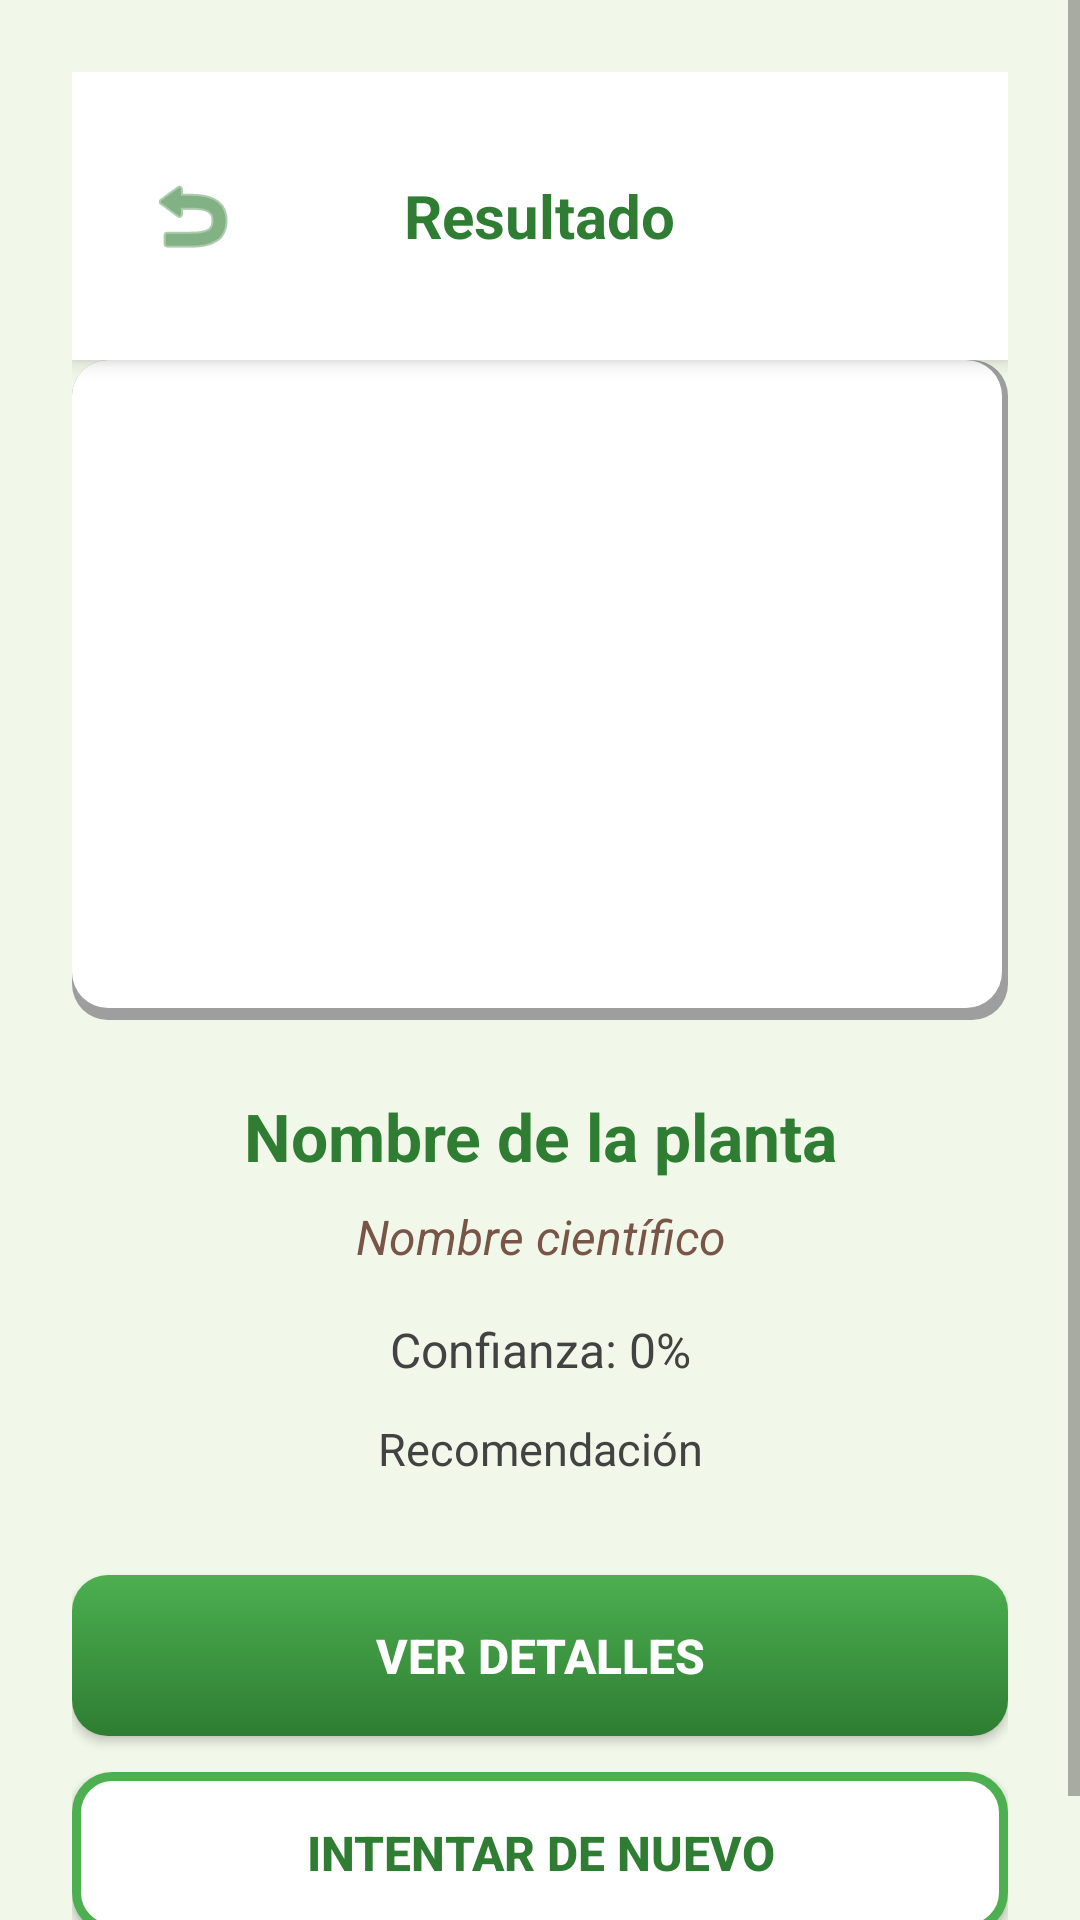

Icons on this 1080*1920 Android screen, each with its box as rect(x1, y1, x2, y2):
Regresar a pantalla anterior: rect(159, 185, 228, 248)
